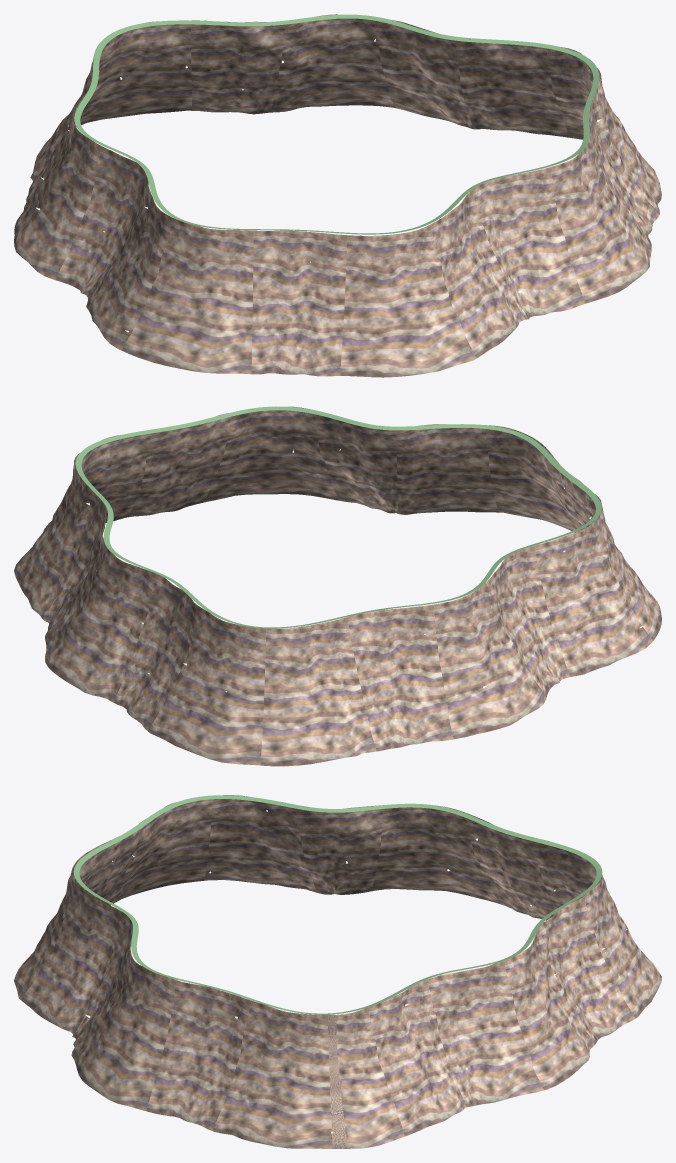
The model's file is CliffWall_plateau_B25.glb.
The picture shows the model from 3 angles, top to bottom: view 1: azimuth 30°, elevation 25°; view 2: azimuth 150°, elevation 25°; view 3: azimuth 270°, elevation 25°; orthographic projection. The views are drawn at different scales.
Visible parts, largest first — view 1: CliffWall_plateau_B25-rock0, CliffWall_plateau_B25-lip0; view 2: CliffWall_plateau_B25-rock0, CliffWall_plateau_B25-lip0; view 3: CliffWall_plateau_B25-rock0, CliffWall_plateau_B25-lip0.
Boxes of the visible parts, x1,y1,x2,y2 form: CliffWall_plateau_B25-rock0: (14, 14, 661, 377); CliffWall_plateau_B25-lip0: (74, 14, 599, 234); CliffWall_plateau_B25-rock0: (14, 406, 661, 766); CliffWall_plateau_B25-lip0: (75, 406, 601, 628); CliffWall_plateau_B25-rock0: (14, 795, 661, 1148); CliffWall_plateau_B25-lip0: (73, 795, 602, 1014).
Size of the model in its own units: 645 by 124 by 657.
Materials: 4 (1 with a texture image).
